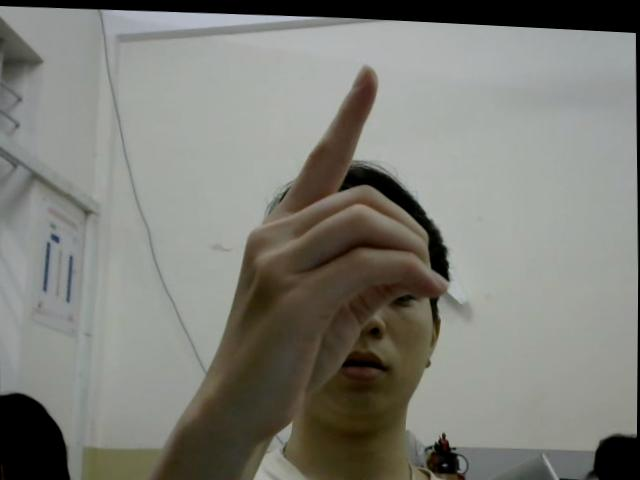D: (212, 50, 455, 436)
